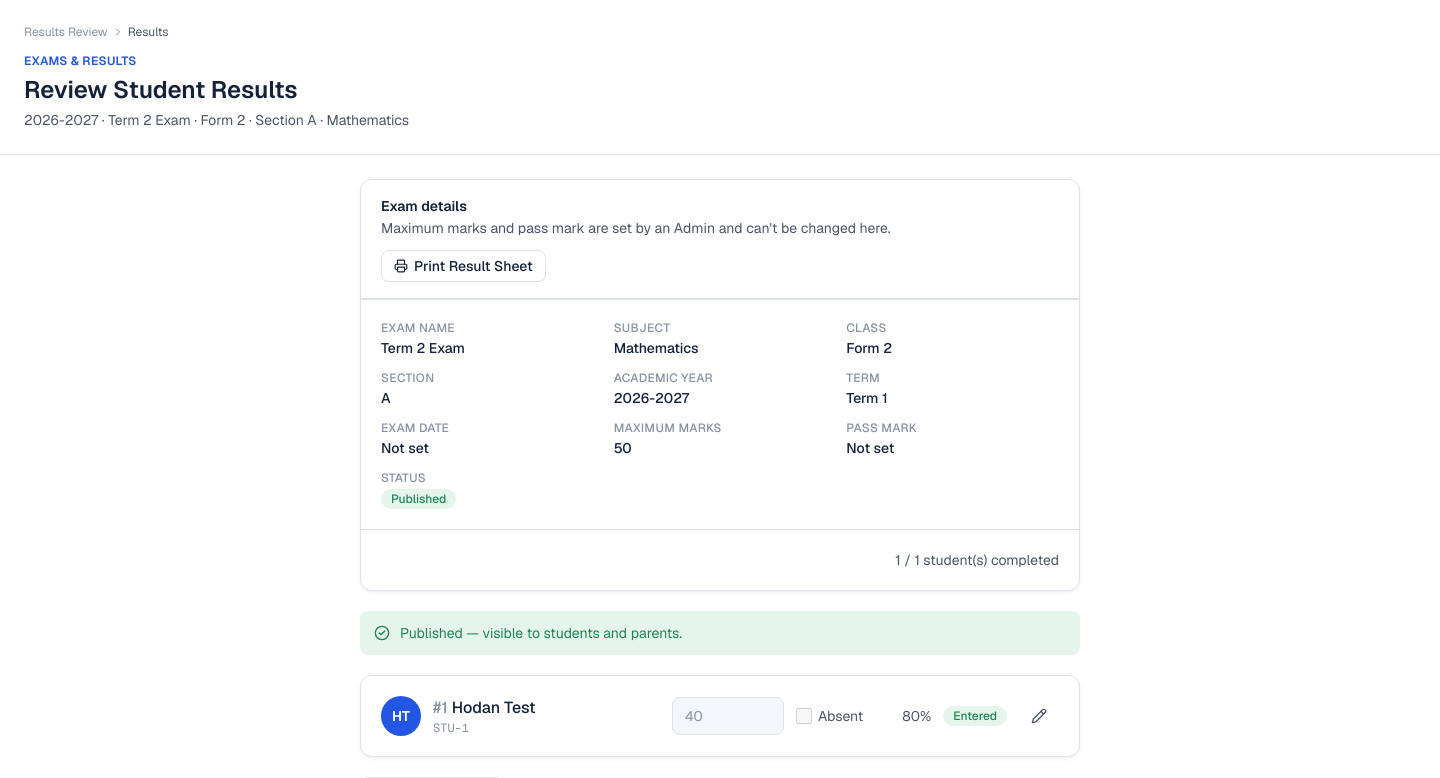
Results page — admin Edit Result › the dialog shows the student, subject, exam/term and the current mark
The image size is (1440, 778).
Check: the text "Term 2 Exam" is shown, box [381,339,465,357]
Click the button named "Edit result for Hodan Test": (1039, 716) [1019,700,1059,732]
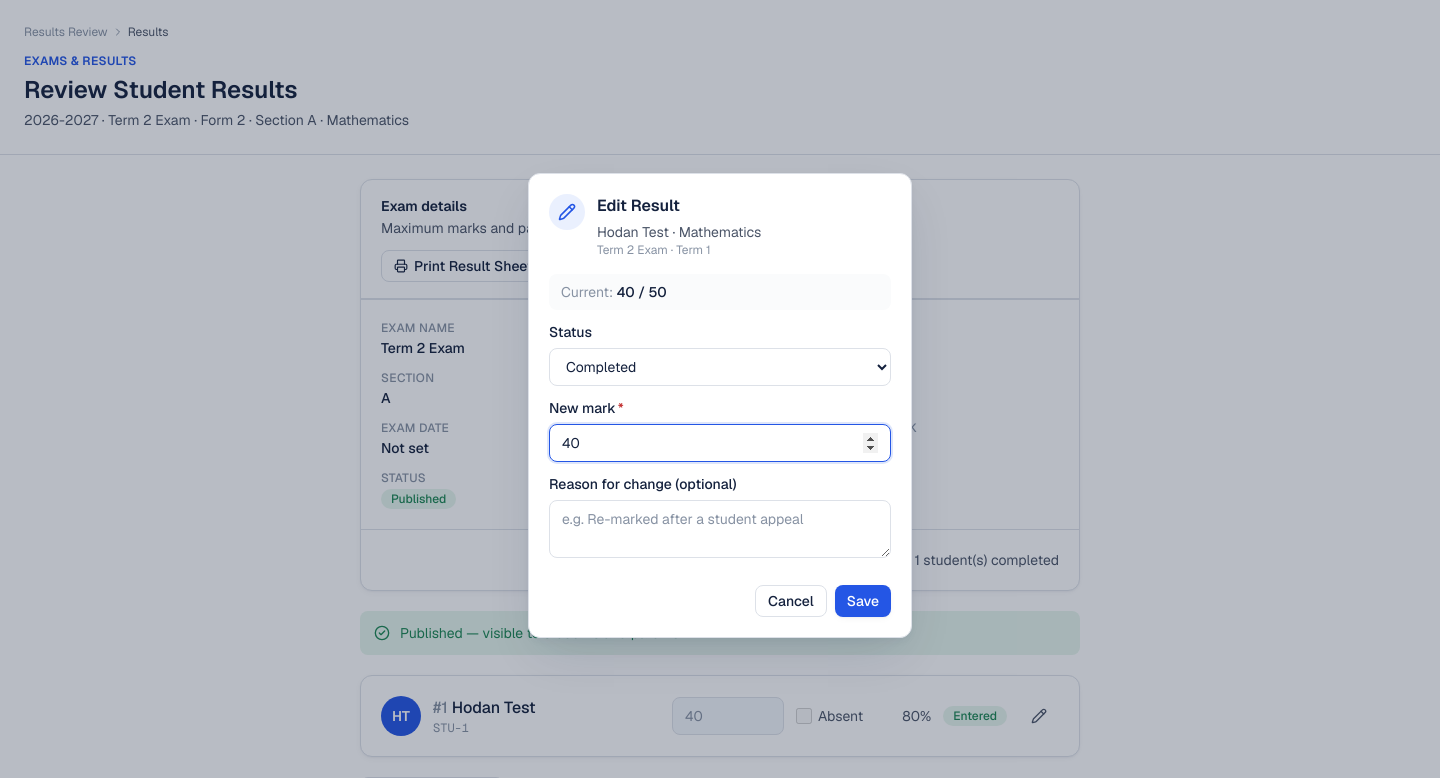
Check: the text "Hodan Test · Mathematics" is shown, box [597,222,761,242]
Check: the text "Term 2 Exam · Term 1" is shown, box [597,242,711,258]
Check: the text "40 / 50" is shown, box [617,282,667,300]
